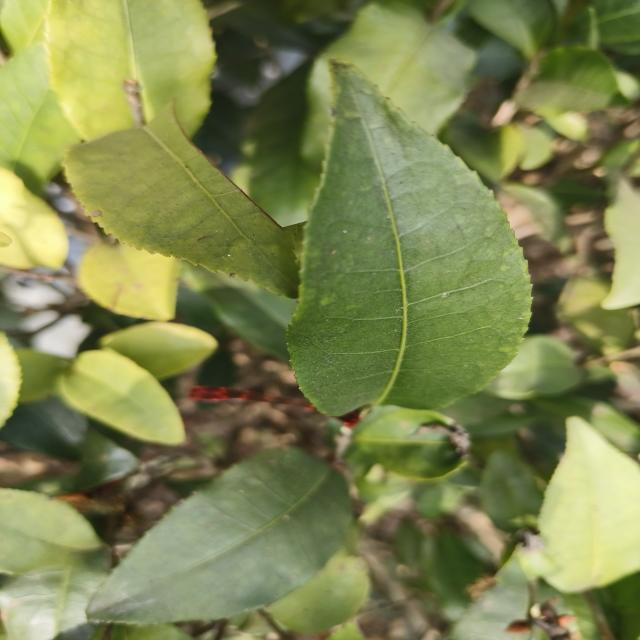Leaf: (288, 63, 530, 415), (234, 0, 476, 226), (87, 449, 351, 623), (63, 106, 299, 298), (45, 0, 216, 139), (538, 417, 640, 592), (58, 350, 185, 445), (0, 43, 79, 194), (183, 266, 296, 362), (0, 552, 106, 640), (346, 405, 467, 480), (0, 489, 102, 573), (267, 552, 370, 634), (78, 243, 179, 321), (0, 168, 68, 269), (516, 46, 618, 113), (100, 322, 218, 379), (486, 335, 581, 400), (0, 396, 88, 460), (468, 0, 558, 58), (480, 450, 543, 531), (601, 179, 640, 309)
